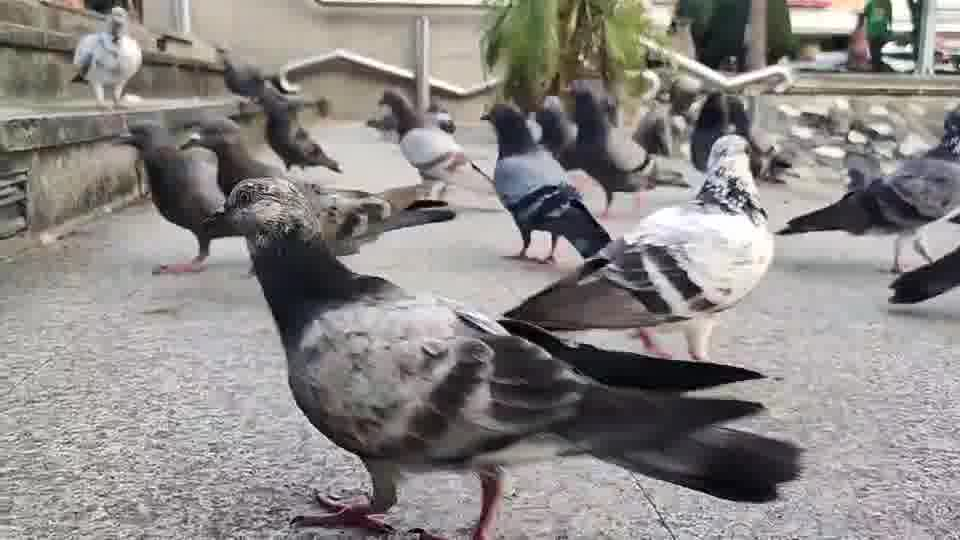Pigeon: (205, 175, 803, 538), (496, 131, 774, 362), (773, 109, 959, 274), (110, 120, 253, 274), (478, 102, 612, 265), (539, 79, 660, 216), (221, 58, 344, 175), (685, 91, 794, 183), (70, 6, 143, 110), (887, 243, 959, 304)
